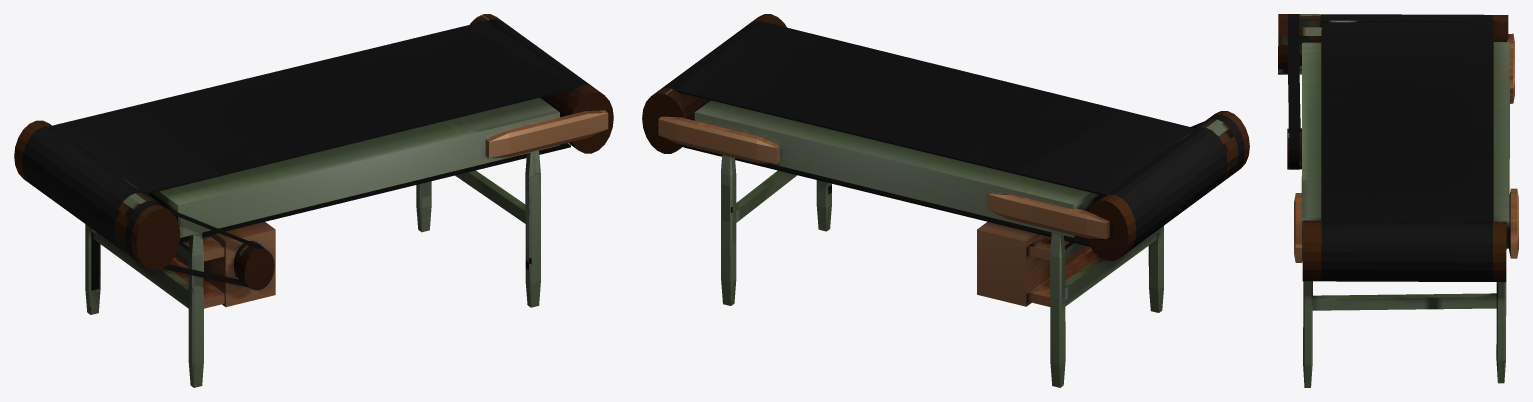
The model's file is conveyor2.dae.
The picture shows the model from 3 angles, left to right: view 1: azimuth 30°, elevation 25°; view 2: azimuth 150°, elevation 25°; view 3: azimuth 270°, elevation 25°; orthographic projection. The views are drawn at different scales.
Visible parts, largest first — view 1: Cube_002; view 2: Cube_002; view 3: Cube_002.
Boxes of the visible parts, left/top/right/bottom form: Cube_002: left=14, top=14, right=613, bottom=387; Cube_002: left=642, top=14, right=1249, bottom=387; Cube_002: left=1278, top=14, right=1518, bottom=387.
Bounding box in the file's own units: 4.04 × 1.83 × 1.6.
Materials: 1 (1 with a texture image).
